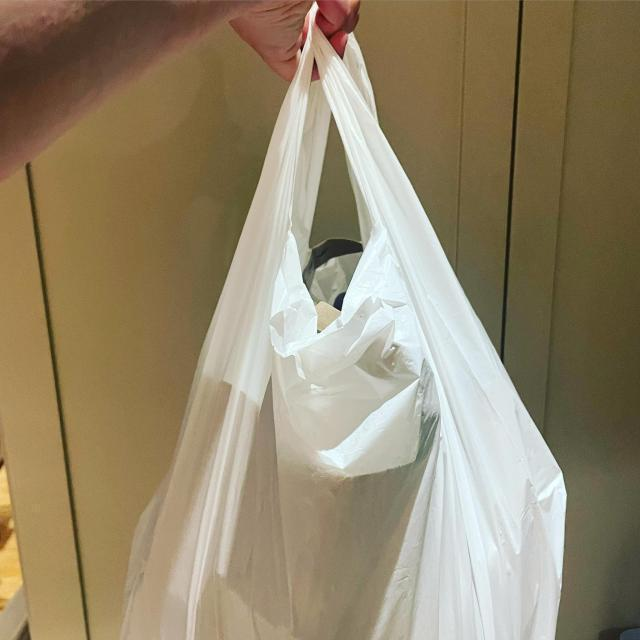Plastic_Bag: (126, 3, 564, 640)
